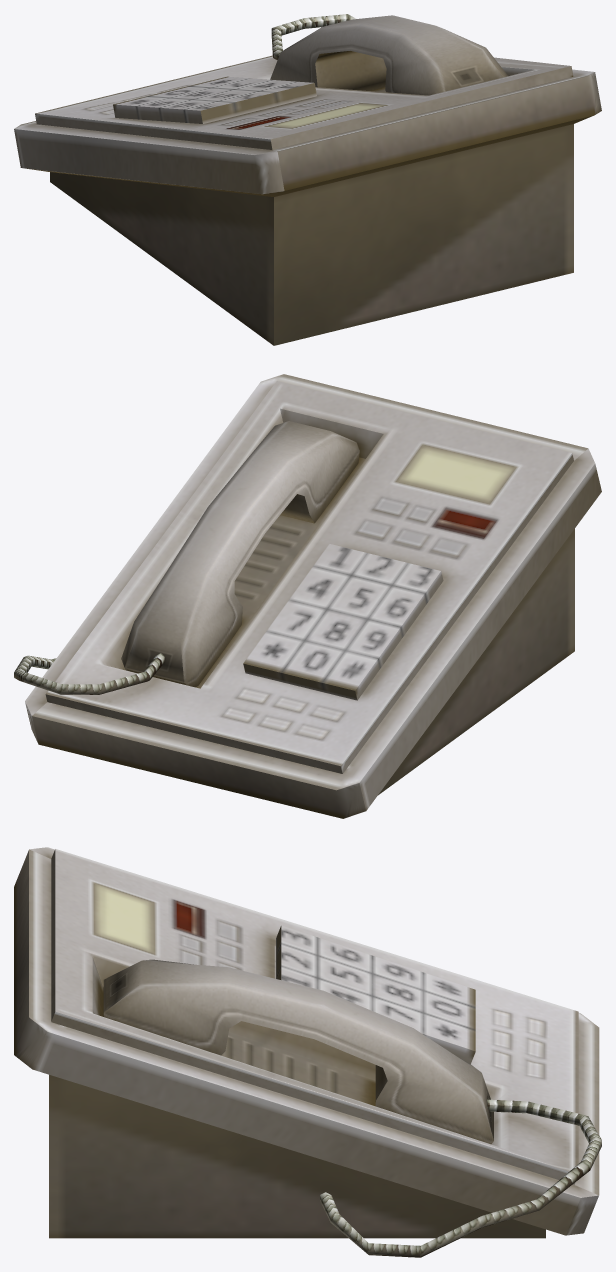
File: ZhiBanShi_01_dianhua_01.FBX
3 renders of one model, top to bottom at view 1: azimuth 30°, elevation 25°; view 2: azimuth 150°, elevation 25°; view 3: azimuth 270°, elevation 25°, orthographic. The views are drawn at different scales.
Parts seen in each view (by area): view 1: ZhiBanShi_dianhua_01; view 2: ZhiBanShi_dianhua_01; view 3: ZhiBanShi_dianhua_01.
Part boxes in pixels (x1=…): ZhiBanShi_dianhua_01: x1=14, y1=14, x2=601, y2=345; ZhiBanShi_dianhua_01: x1=14, y1=374, x2=601, y2=818; ZhiBanShi_dianhua_01: x1=14, y1=847, x2=601, y2=1257.
Bounding box in the file's own units: 98.56 × 49.37 × 116.
